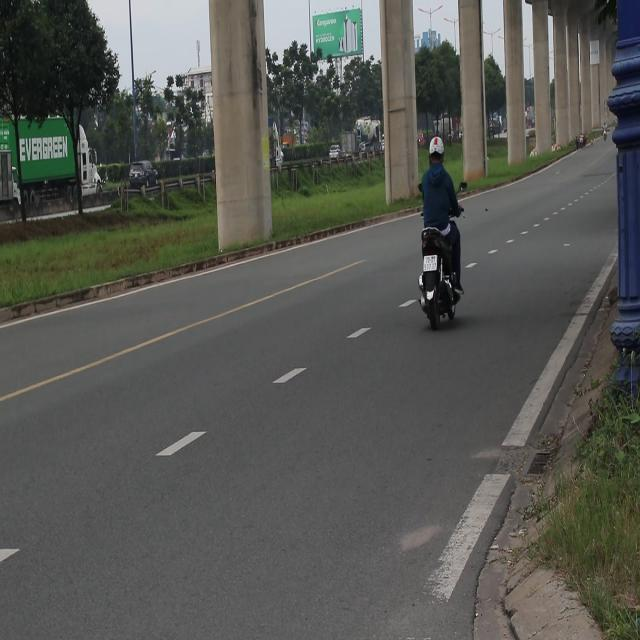car: (129, 160, 161, 190), (329, 144, 342, 160)
motorbike: (421, 224, 465, 330)
truck: (0, 112, 108, 220), (252, 110, 287, 178), (341, 130, 361, 162)
